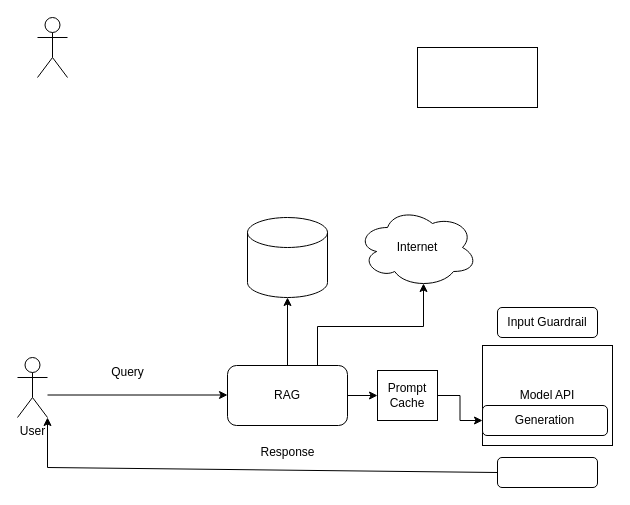
Some shapes in this 630 by 505 pixel diagram are drawn without their labels. Here are the shapes that lost their labels. From the top down, the centre of each, then its label:
At pixel 52 47: "Actor".
At pixel 477 77: "Study Activity (Sentence Constructor)".
At pixel 287 257: "Vector Database".
At pixel 547 472: "Output Guardrail".
